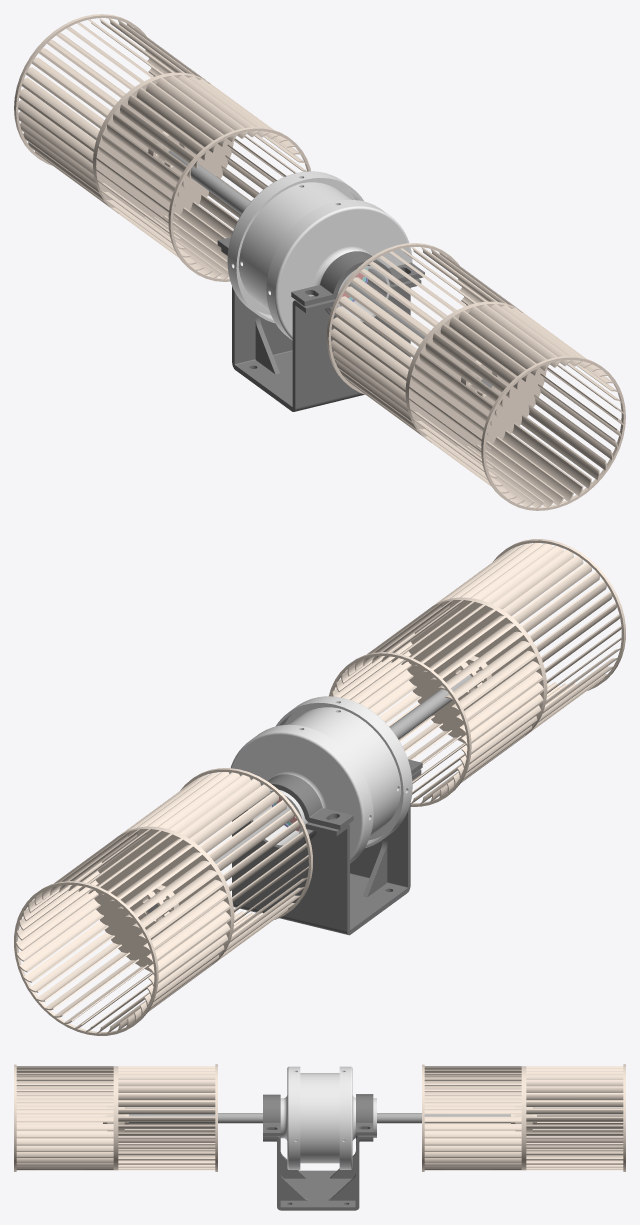
Rendered from final_assembly.gltf.
The picture shows the model from 3 angles, top to bottom: view 1: azimuth 30°, elevation 25°; view 2: azimuth 150°, elevation 25°; view 3: azimuth 270°, elevation 25°; orthographic projection. The views are drawn at different scales.
Parts seen in each view (by area): view 1: turbine-1, turbine-2, new stand-2, F&B cover-3, mid cover-2, F&B cover-2, new clip-6, shaft-1; view 2: turbine-2, turbine-1, new stand-2, F&B cover-2, mid cover-2, F&B cover-3, new clip-7, shaft-1; view 3: turbine-2, turbine-1, new stand-2, mid cover-2, shaft-1, F&B cover-3, F&B cover-2, new clip-6, new clip-7.
Boxes of the visible parts, left/top/right/bottom form: turbine-1: left=326, top=243, right=625, bottom=510; turbine-2: left=14, top=14, right=310, bottom=281; new stand-2: left=221, top=248, right=421, bottom=411; F&B cover-3: left=266, top=199, right=412, bottom=340; mid cover-2: left=238, top=182, right=350, bottom=310; F&B cover-2: left=227, top=171, right=364, bottom=322; new clip-6: left=291, top=251, right=424, bottom=306; shaft-1: left=168, top=150, right=492, bottom=387; turbine-2: left=14, top=768, right=312, bottom=1035; turbine-1: left=329, top=539, right=625, bottom=806; new stand-2: left=232, top=769, right=421, bottom=935; F&B cover-2: left=229, top=724, right=373, bottom=863; mid cover-2: left=289, top=707, right=401, bottom=836; F&B cover-3: left=275, top=696, right=412, bottom=848; new clip-7: left=267, top=774, right=353, bottom=829; shaft-1: left=147, top=674, right=471, bottom=913; turbine-2: left=422, top=1064, right=625, bottom=1171; turbine-1: left=14, top=1064, right=217, bottom=1171; new stand-2: left=263, top=1135, right=373, bottom=1210; mid cover-2: left=294, top=1073, right=345, bottom=1163; shaft-1: left=129, top=1113, right=510, bottom=1123; F&B cover-3: left=280, top=1066, right=300, bottom=1169; F&B cover-2: left=339, top=1066, right=376, bottom=1169; new clip-6: left=263, top=1094, right=280, bottom=1136; new clip-7: left=356, top=1094, right=373, bottom=1135.
Size of the model in its own units: 0.124 by 0.156 by 0.705.
